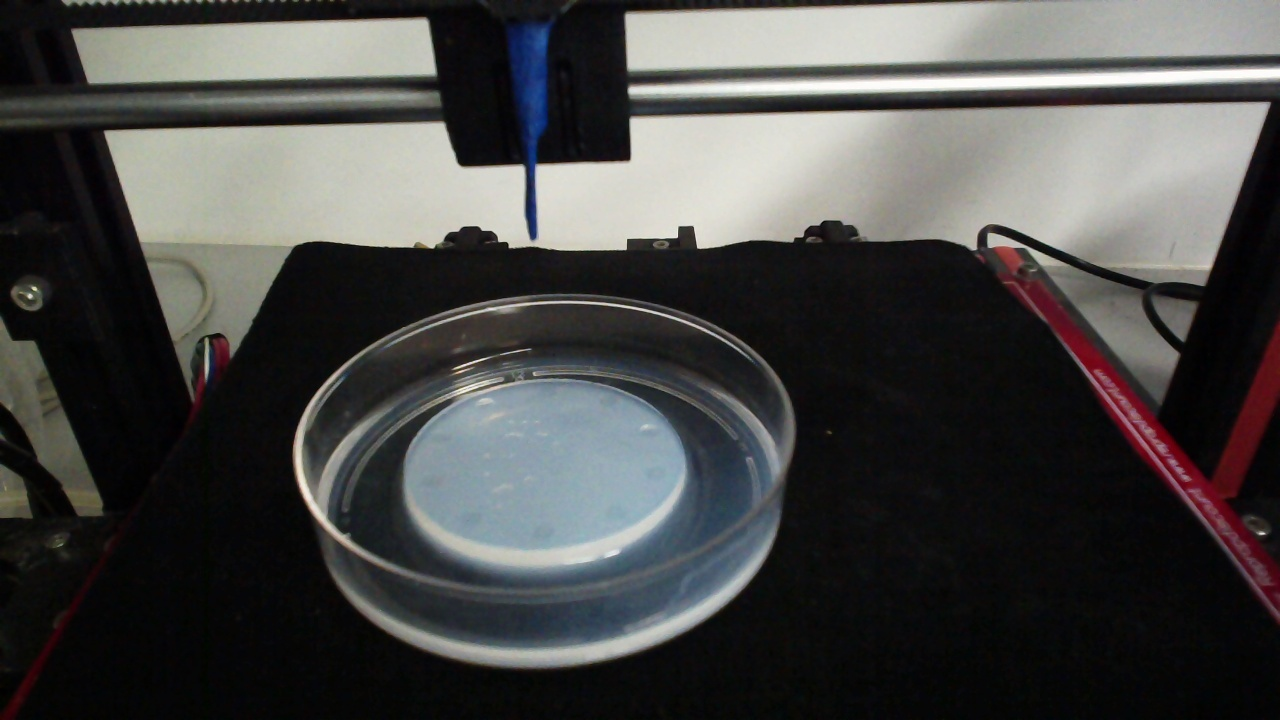groove: (528, 519, 555, 541), (455, 509, 486, 527), (418, 470, 444, 491), (602, 501, 627, 522), (637, 421, 662, 439), (426, 429, 453, 445), (535, 383, 558, 400), (644, 464, 666, 481), (474, 395, 494, 412), (598, 393, 620, 408)
needle: (507, 23, 551, 239)
